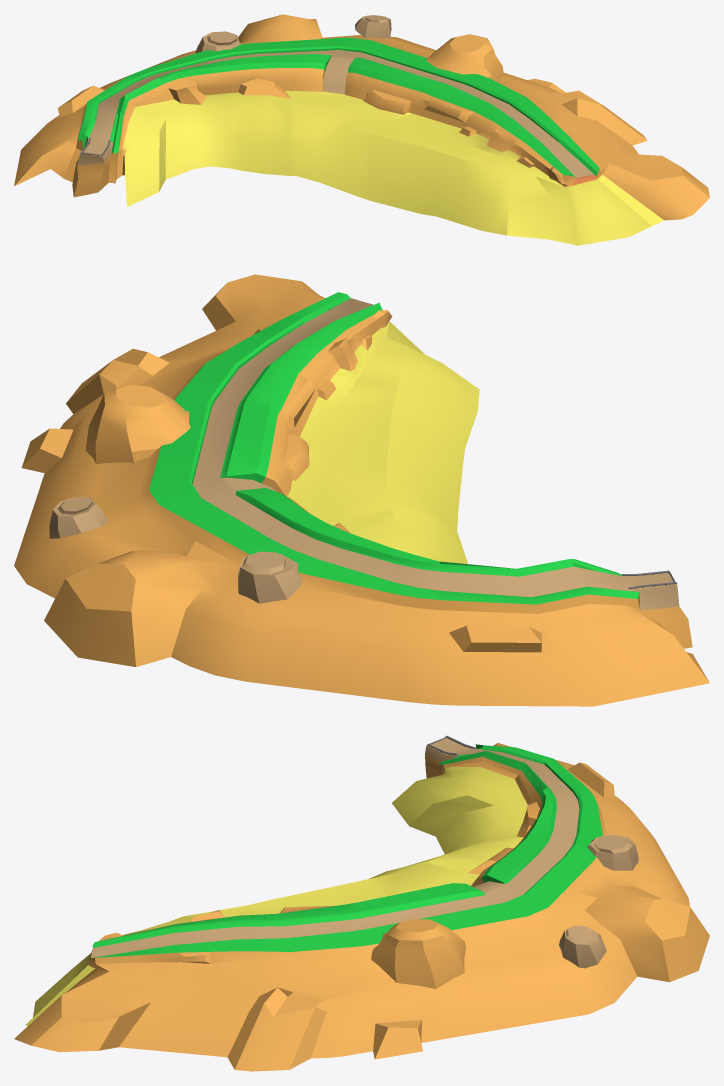
The model's file is island_1.fbx.
The picture shows the model from 3 angles, top to bottom: view 1: azimuth 30°, elevation 25°; view 2: azimuth 150°, elevation 25°; view 3: azimuth 270°, elevation 25°; orthographic projection. The views are drawn at different scales.
Visible parts, largest first — view 1: Island_1; view 2: Island_1; view 3: Island_1.
Part boxes in pixels (x1,y1,x2,y2): Island_1: (14, 14, 709, 245); Island_1: (14, 274, 709, 706); Island_1: (14, 735, 709, 1071).
Bounding box in the file's own units: 26366 × 3922 × 24887.
